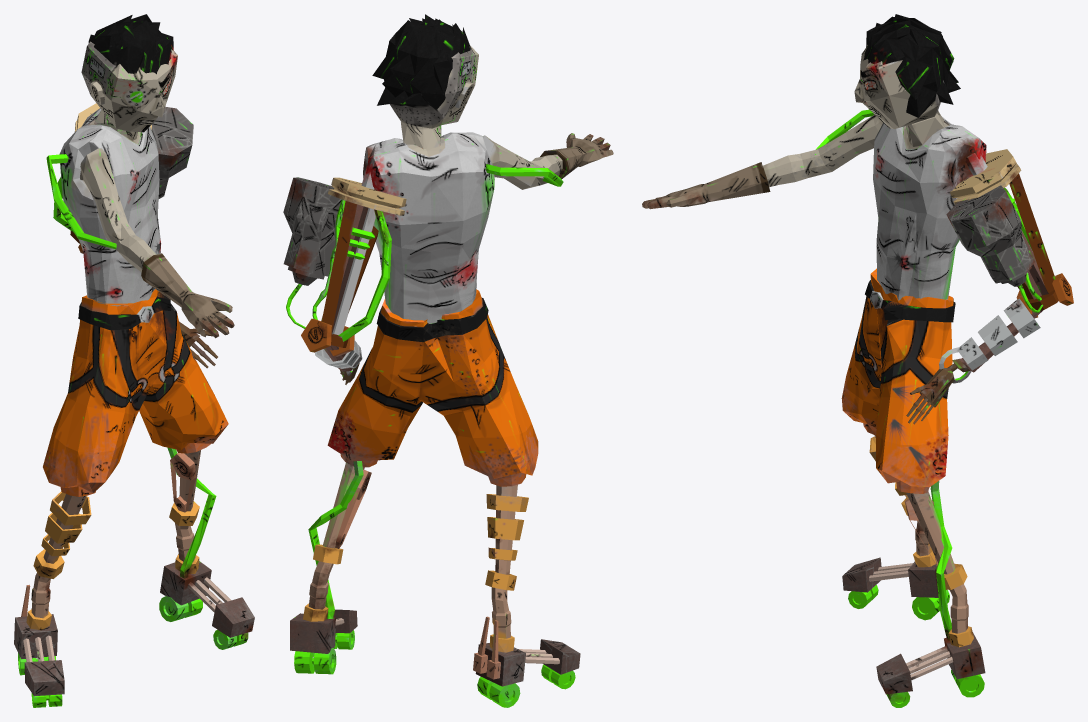
File: CyborgFINALAnimation_000007.obj
3 views of the same model, side by side, from view 1: azimuth 30°, elevation 25°; view 2: azimuth 150°, elevation 25°; view 3: azimuth 270°, elevation 25° (orthographic). The views are drawn at different scales.
Parts seen in each view (by area): view 1: CyborgMesh_Cube.002; view 2: CyborgMesh_Cube.002; view 3: CyborgMesh_Cube.002.
Part boxes in pixels (box(x1,y1,x2,y2)): CyborgMesh_Cube.002: box(14, 14, 254, 707); CyborgMesh_Cube.002: box(283, 14, 613, 707); CyborgMesh_Cube.002: box(642, 14, 1073, 707).
Bounding box in the file's own units: 3.67 × 9.62 × 5.9.
